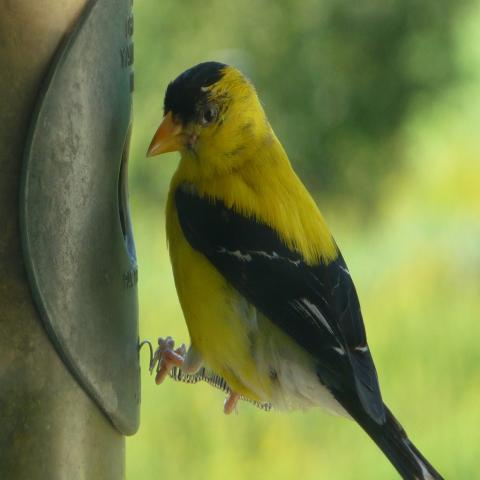bird: (144, 57, 444, 477)
